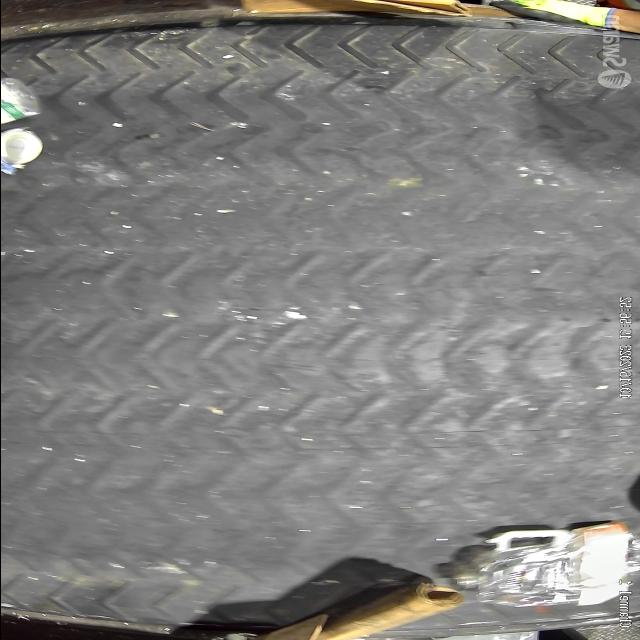can: (0, 76, 58, 123), (0, 124, 52, 174)
plastic_bottle: (430, 520, 640, 615)
